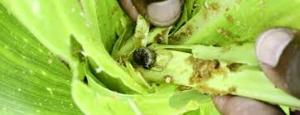fallarmy_worm: (129, 44, 158, 71)
